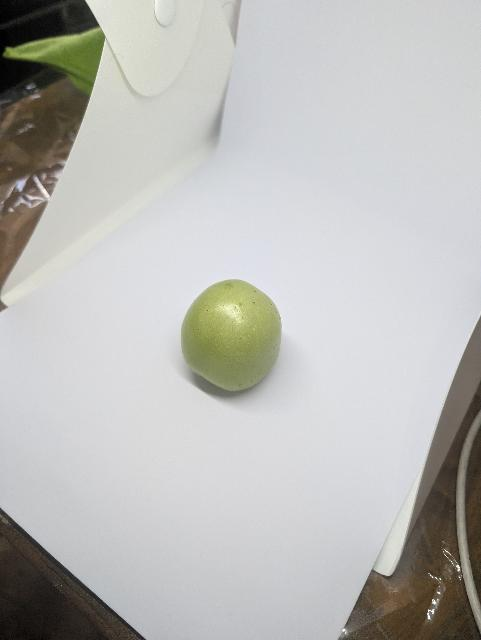green: (171, 266, 313, 424)
